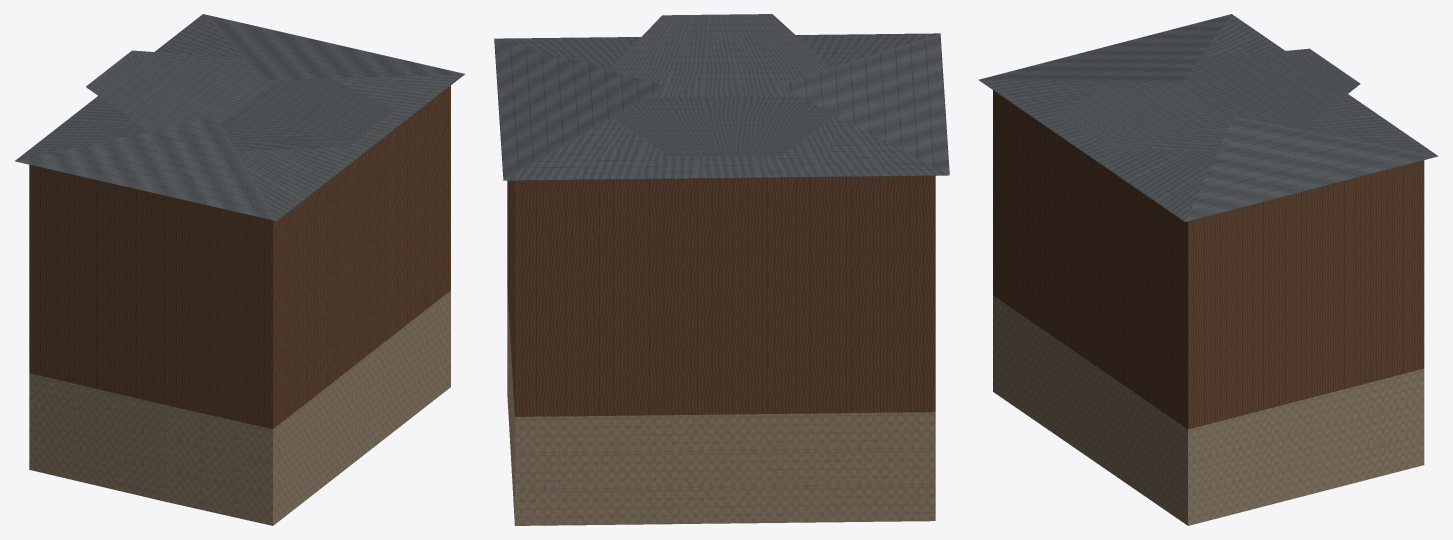
Rendered from bld_c7_16_430.gltf.
3 renders of one model, left to right at view 1: azimuth 30°, elevation 25°; view 2: azimuth 150°, elevation 25°; view 3: azimuth 270°, elevation 25°, orthographic. The views are drawn at different scales.
Parts seen in each view (by area): view 1: bld_c7_16_430; view 2: bld_c7_16_430; view 3: bld_c7_16_430.
Part boxes in pixels (bbox=[...]): bld_c7_16_430: bbox=[15, 14, 464, 525]; bld_c7_16_430: bbox=[494, 14, 949, 525]; bld_c7_16_430: bbox=[978, 14, 1438, 525].
Size of the model in its own units: 23.6 by 17.4 by 22.07.
Materials: 3 (3 with a texture image).
